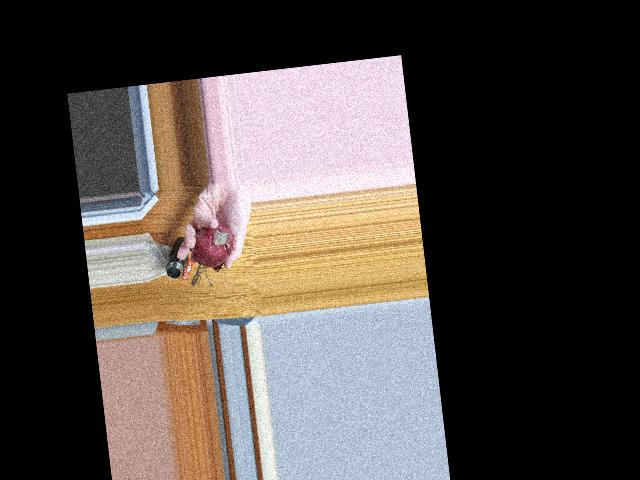onion: (191, 218, 238, 266)
